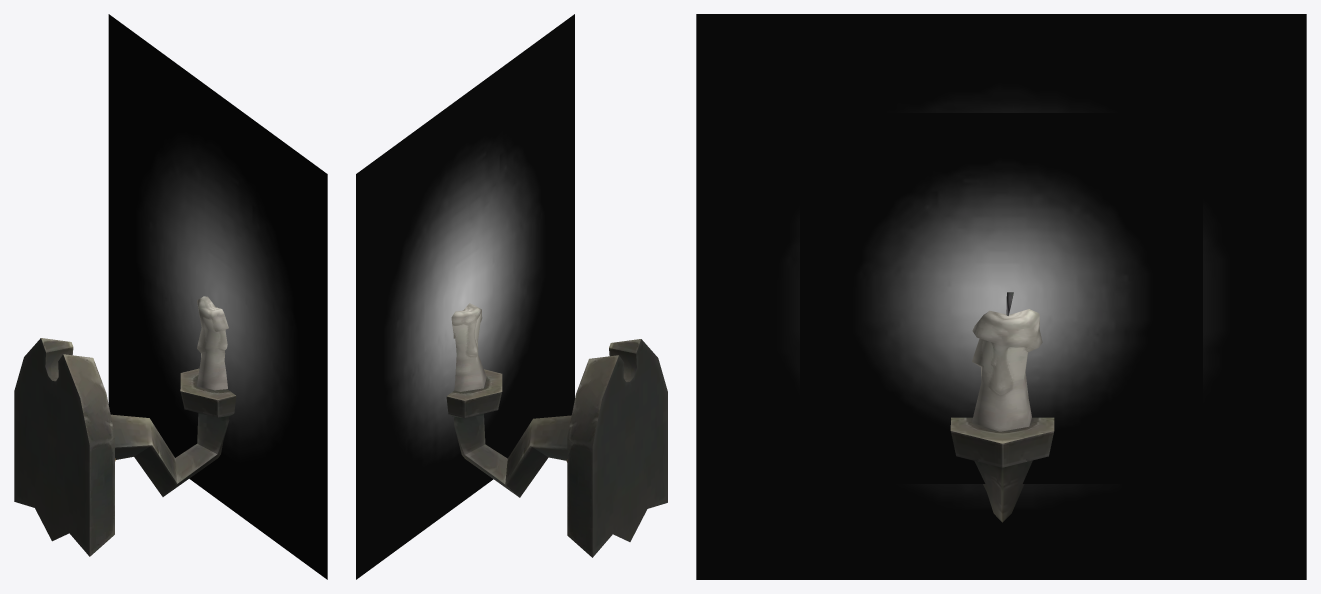
The picture shows the model from 3 angles, left to right: view 1: azimuth 30°, elevation 25°; view 2: azimuth 150°, elevation 25°; view 3: azimuth 270°, elevation 25°; orthographic projection. The views are drawn at different scales.
Bounding box in the file's own units: 0.8224 × 1.55 × 1.51.
4 materials, 4 textured.
